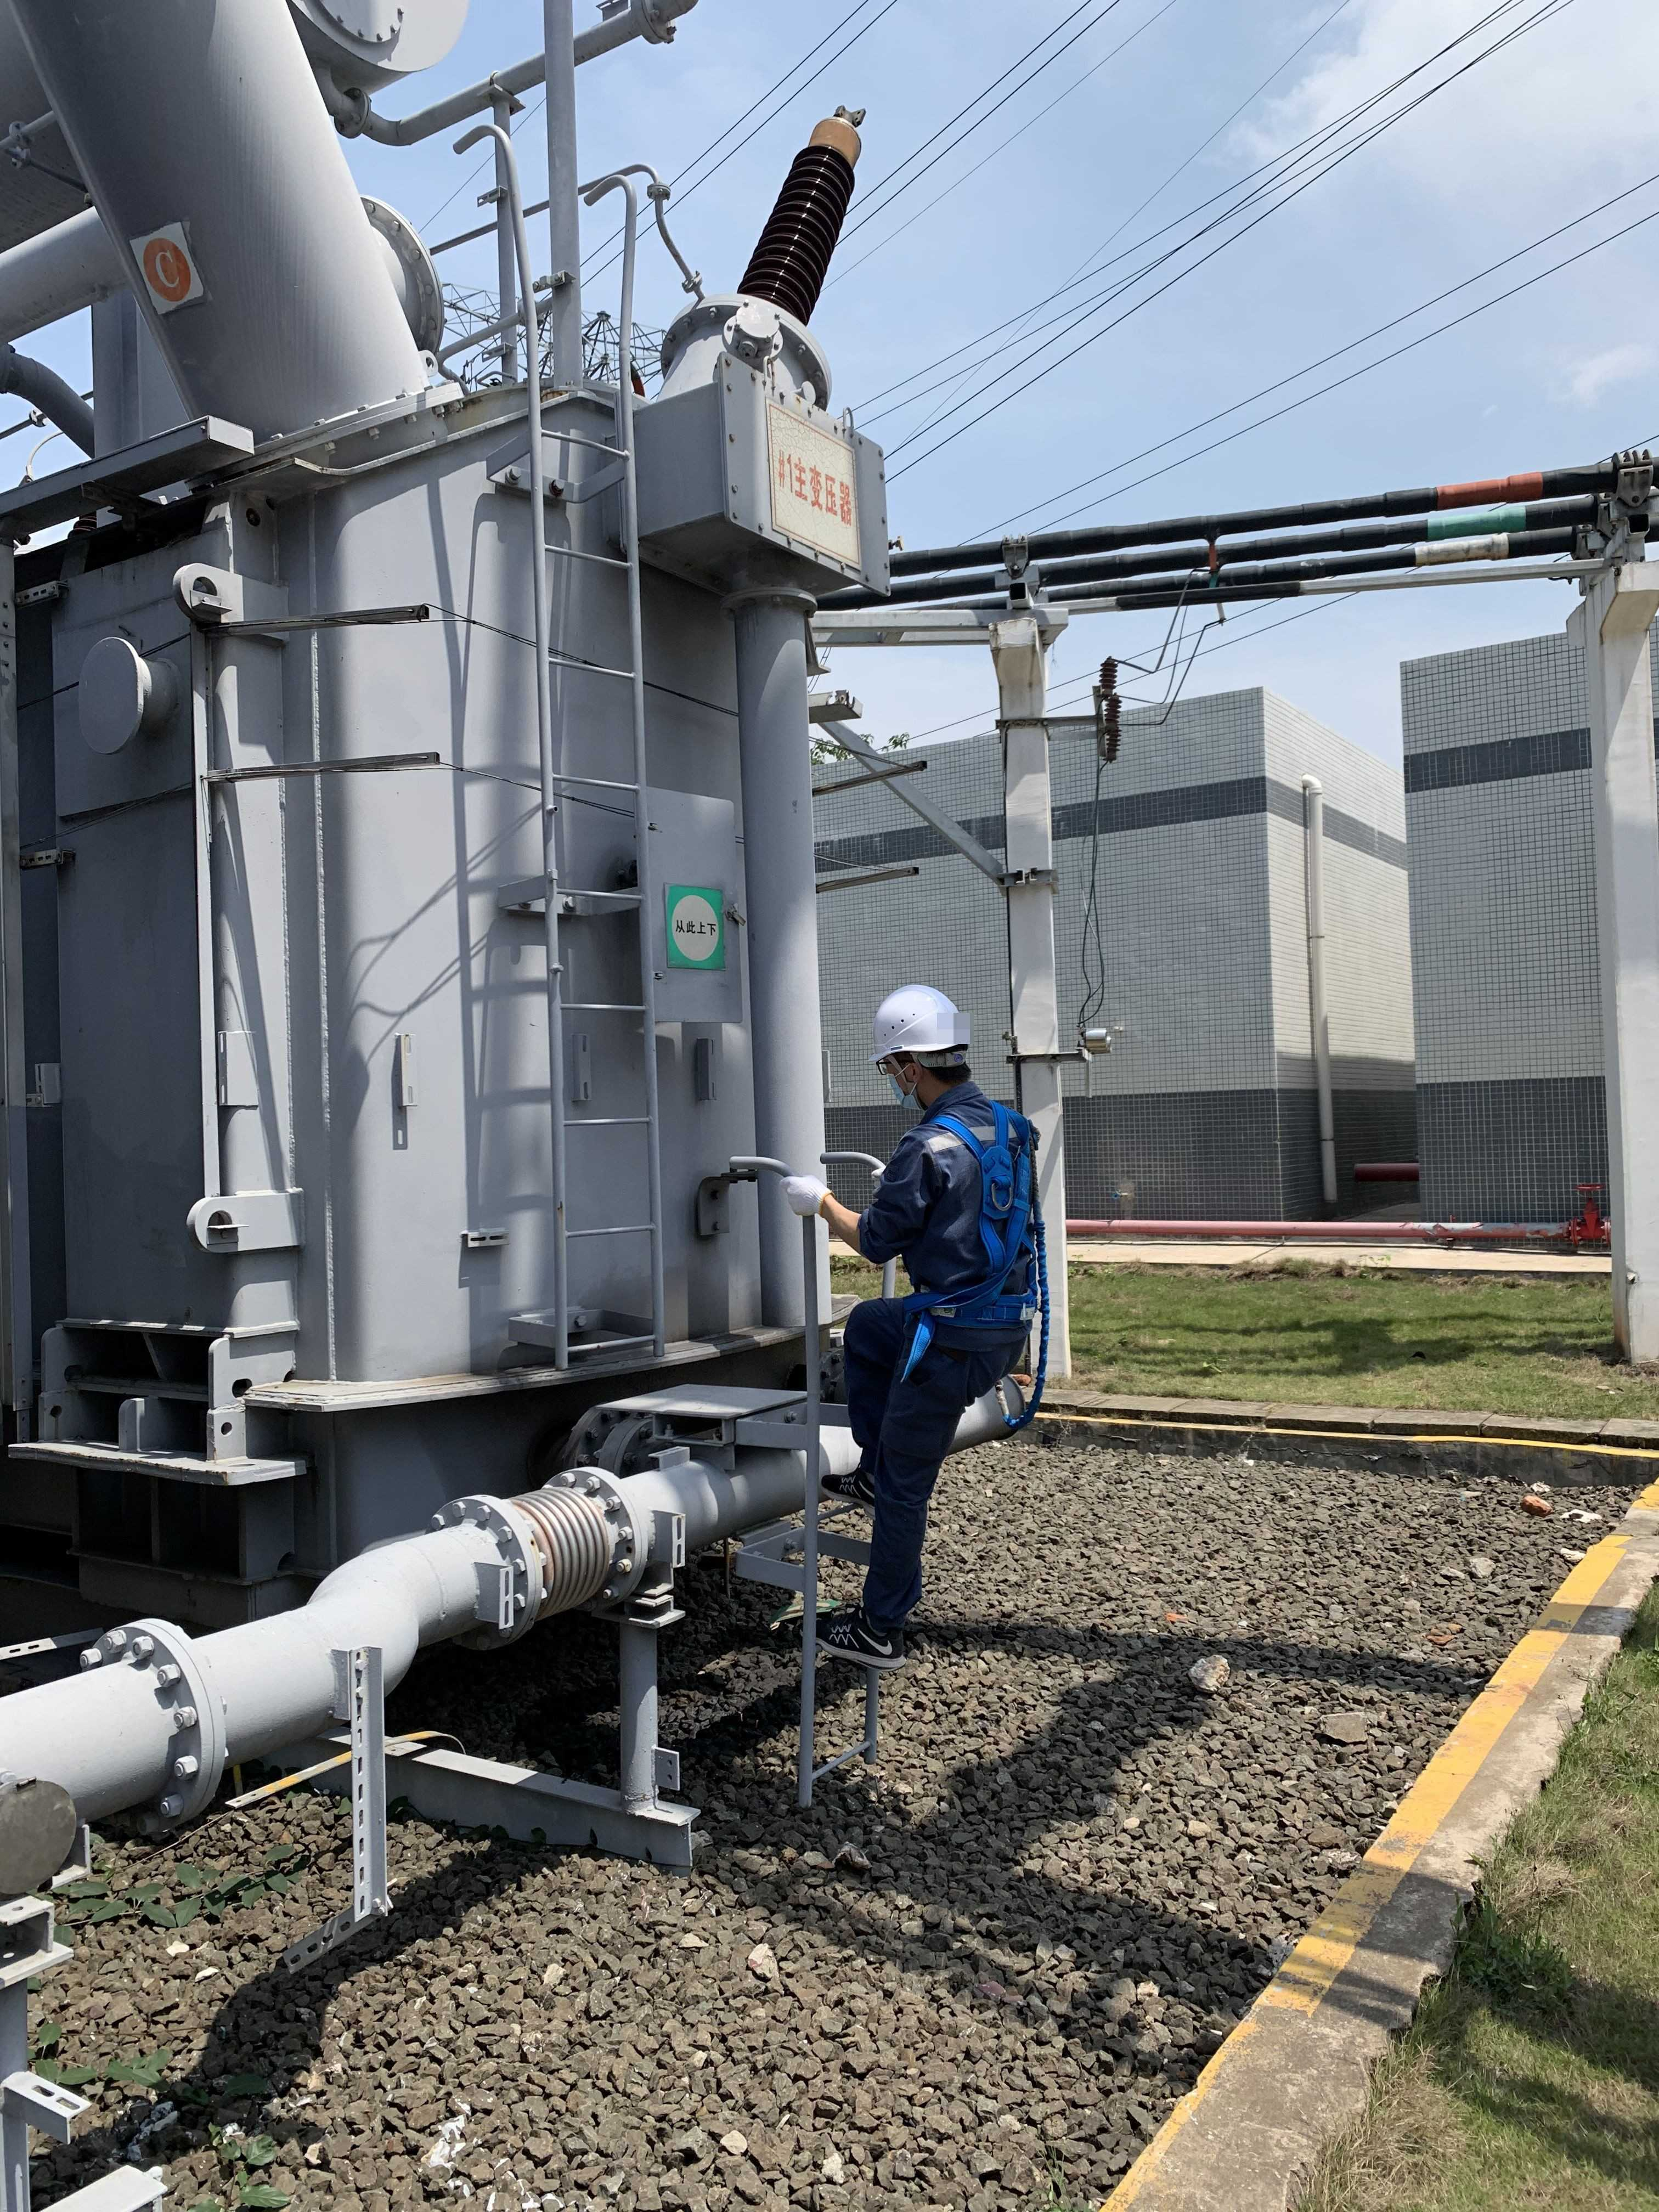downsuit: (835, 1332, 1023, 1618)
upsuit: (859, 1092, 1053, 1305)
wrongtop: (805, 1186, 897, 1261)
